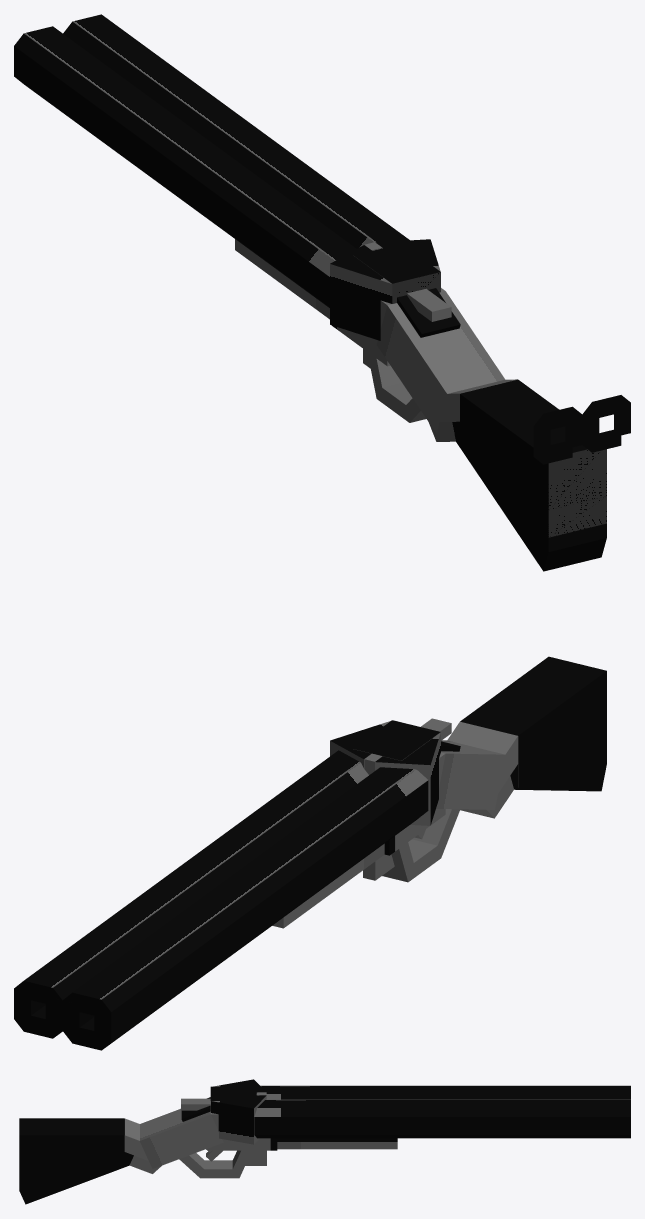
File: mteg_double_barrel.glb
3 views of the same model, one above another, from view 1: azimuth 30°, elevation 25°; view 2: azimuth 150°, elevation 25°; view 3: azimuth 270°, elevation 25° (orthographic). The views are drawn at different scales.
Parts seen in each view (by area): view 1: Gun; view 2: Gun; view 3: Gun.
Part boxes in pixels (x1,y1,x2,y2): Gun: (14, 14, 630, 571); Gun: (14, 656, 606, 1050); Gun: (19, 1079, 630, 1204).
Size of the model in its own units: 0.1294 by 0.2118 by 1.16.
1 material, 1 textured.
